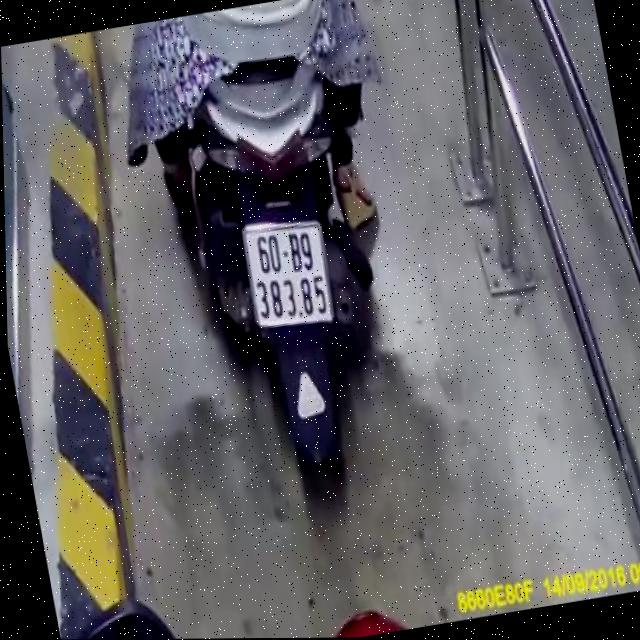motorcycle: (133, 0, 442, 511)
plate: (233, 208, 339, 336)
